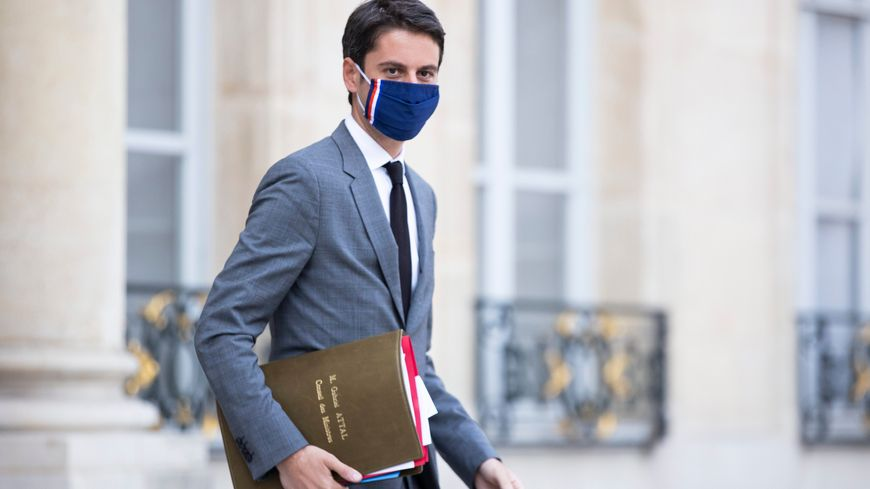with_mask: (350, 49, 449, 150)
